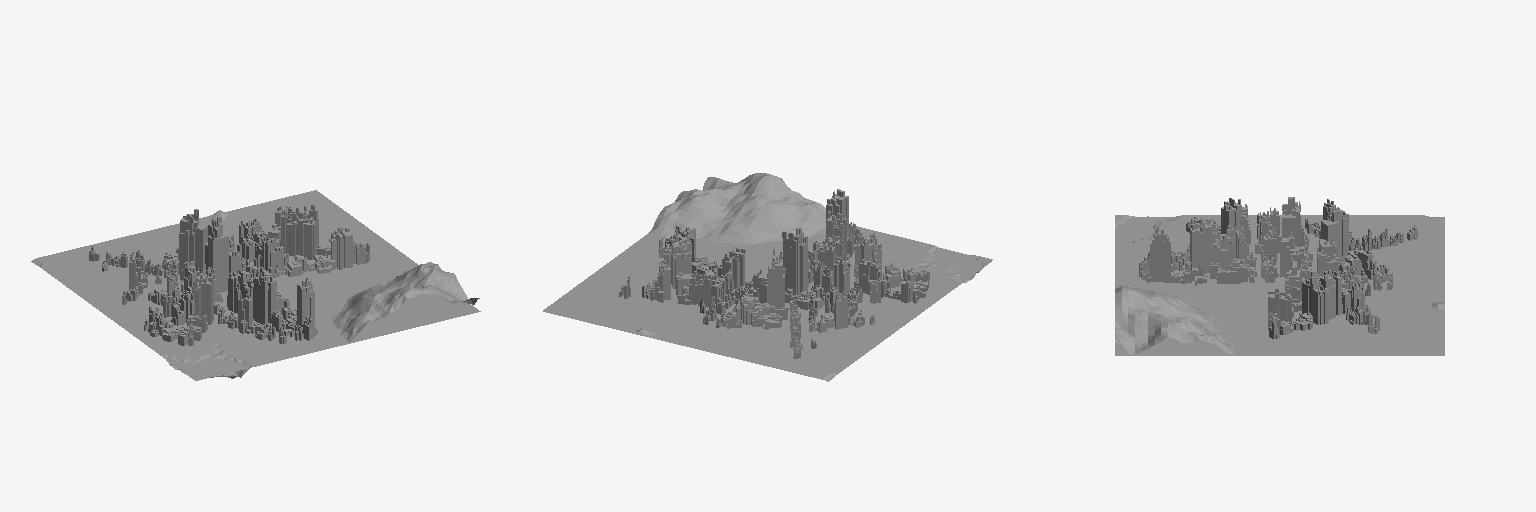
Rendered from city.obj.
3 views of the same model, side by side, from view 1: azimuth 30°, elevation 25°; view 2: azimuth 150°, elevation 25°; view 3: azimuth 270°, elevation 25° (orthographic).
Visible parts, largest first — view 1: SCG_terrain, SCG_city, SCG_water; view 2: SCG_terrain, SCG_city, SCG_water; view 3: SCG_terrain, SCG_city, SCG_water.
Boxes of the visible parts, x1=… form: SCG_terrain: x1=31, y1=190, x2=479, y2=379; SCG_city: x1=89, y1=205, x2=369, y2=345; SCG_water: x1=32, y1=260, x2=480, y2=380; SCG_terrain: x1=543, y1=173, x2=992, y2=381; SCG_city: x1=619, y1=189, x2=929, y2=358; SCG_water: x1=543, y1=247, x2=991, y2=380; SCG_terrain: x1=1115, y1=215, x2=1444, y2=354; SCG_city: x1=1139, y1=197, x2=1417, y2=338; SCG_water: x1=1115, y1=217, x2=1444, y2=355.
Size of the model in its own units: 25.45 by 7.03 by 25.45.